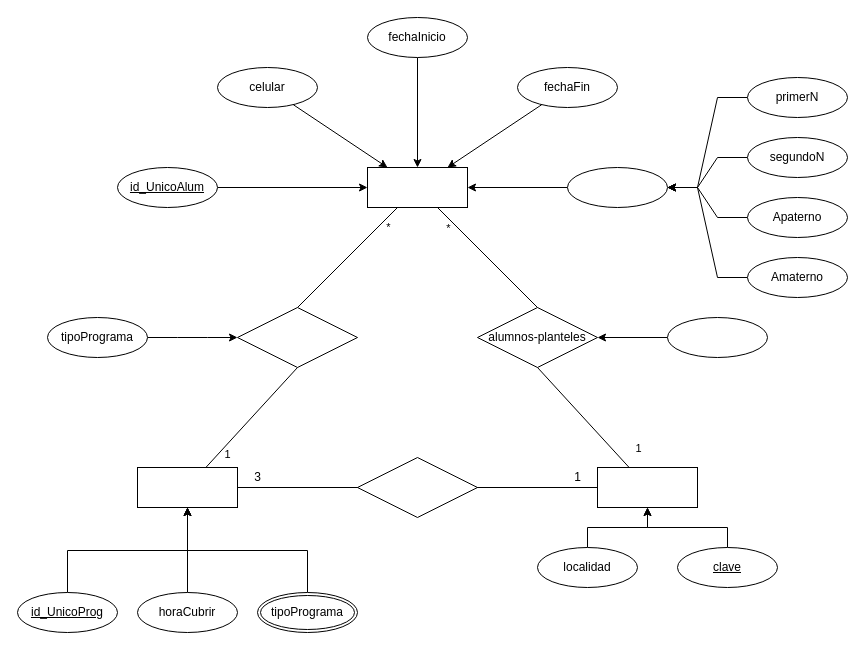
Image size: 865x650. Some labels were removed from this diagram. Here are the shapes that lost their labels. From the top down, the box of each, then its label:
(366, 166, 468, 208): alumnos
(566, 166, 668, 208): nombre
(236, 306, 358, 368): alumnos-programas
(666, 316, 768, 358): plantelProcedencia
(136, 466, 238, 508): programas
(356, 456, 478, 518): planteles-programas
(596, 466, 698, 508): planteles
